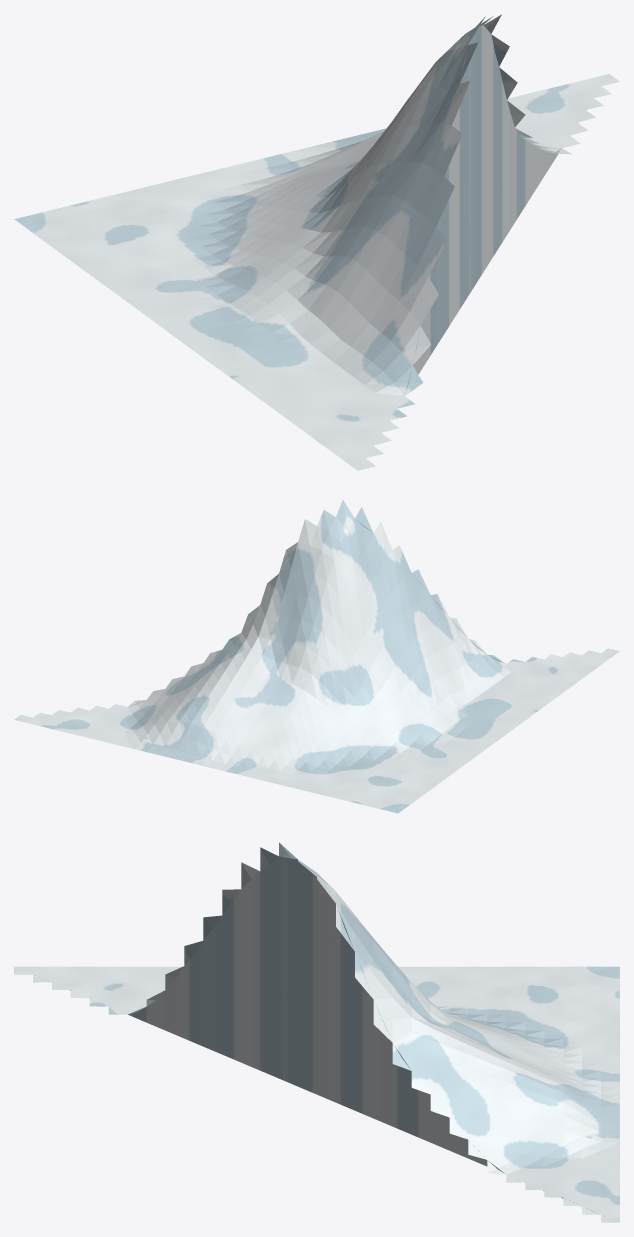
Rendered from Snow_Mountains_07_SW.obj.
3 renders of one model, top to bottom at view 1: azimuth 30°, elevation 25°; view 2: azimuth 150°, elevation 25°; view 3: azimuth 270°, elevation 25°, orthographic. The views are drawn at different scales.
Bounding box in the file's own units: 10 × 4.45 × 10.
Materials: 1 (1 with a texture image).
